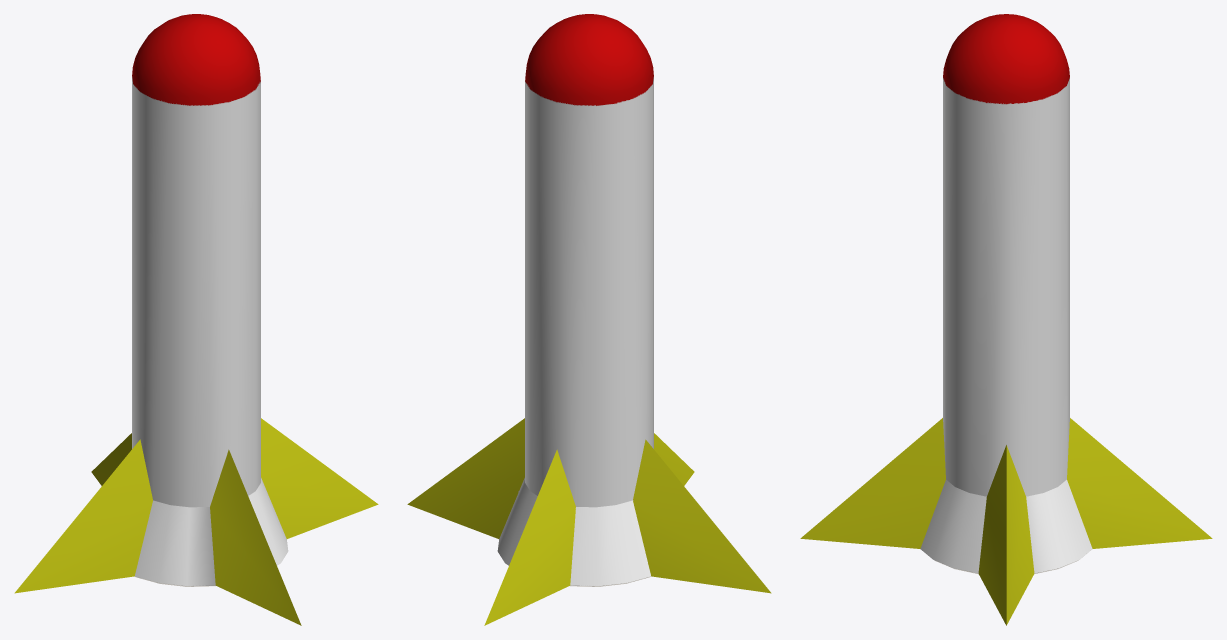
File: misairu.fbx
3 views of the same model, side by side, from view 1: azimuth 30°, elevation 25°; view 2: azimuth 150°, elevation 25°; view 3: azimuth 270°, elevation 25° (orthographic).
Visible parts, largest first — view 1: pCube3; view 2: pCube3; view 3: pCube3.
Part boxes in pixels (x1,y1,x2,y2): pCube3: (14,14,378,625); pCube3: (407,14,771,625); pCube3: (800,14,1212,625).
Bounding box in the file's own units: 6.5 × 9.01 × 6.5.
1 material, 1 textured.
